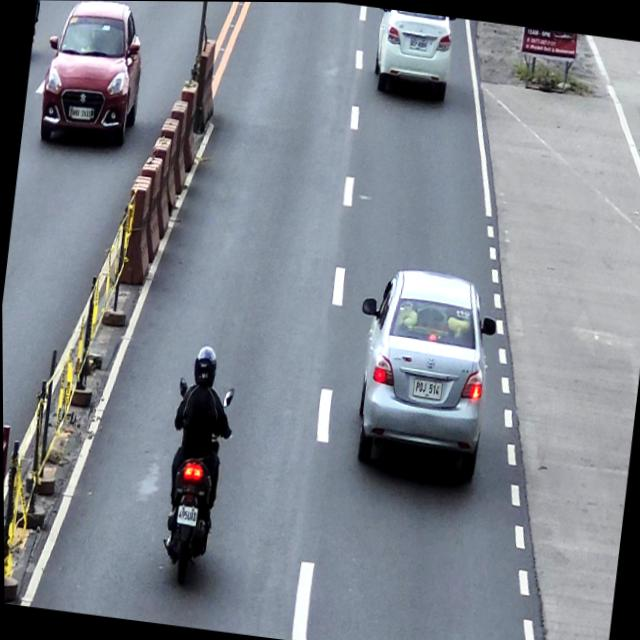Car: (342, 260, 502, 481), (35, 0, 149, 151), (371, 8, 456, 101)
License-Plate: (410, 377, 443, 401), (174, 504, 198, 525), (70, 104, 92, 120), (408, 35, 428, 50)
Motorcycle: (153, 376, 237, 587)
